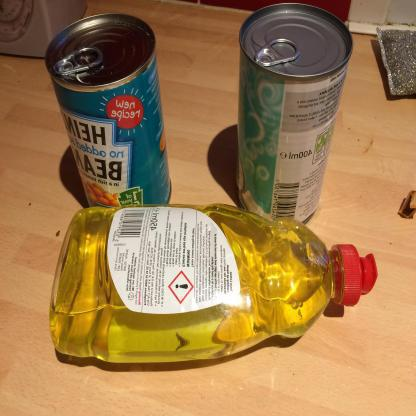metal: (236, 3, 356, 227), (45, 13, 173, 219)
plastik: (47, 203, 379, 369)
